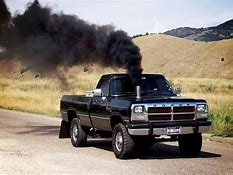smoke: (1, 1, 143, 84)
